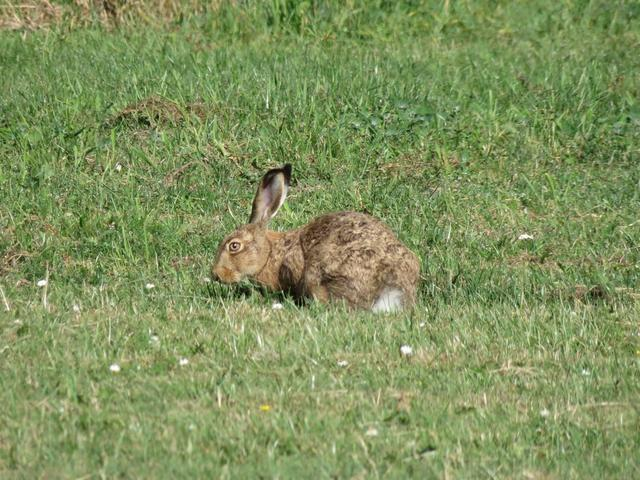rabbit: (143, 131, 478, 339)
